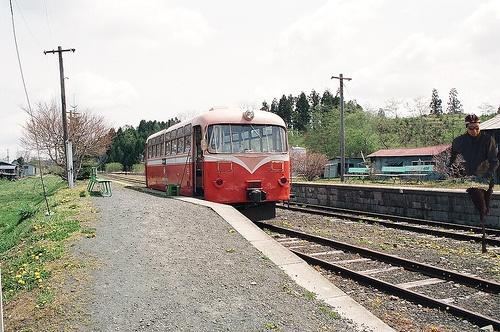tampered: (448, 115, 499, 253)
